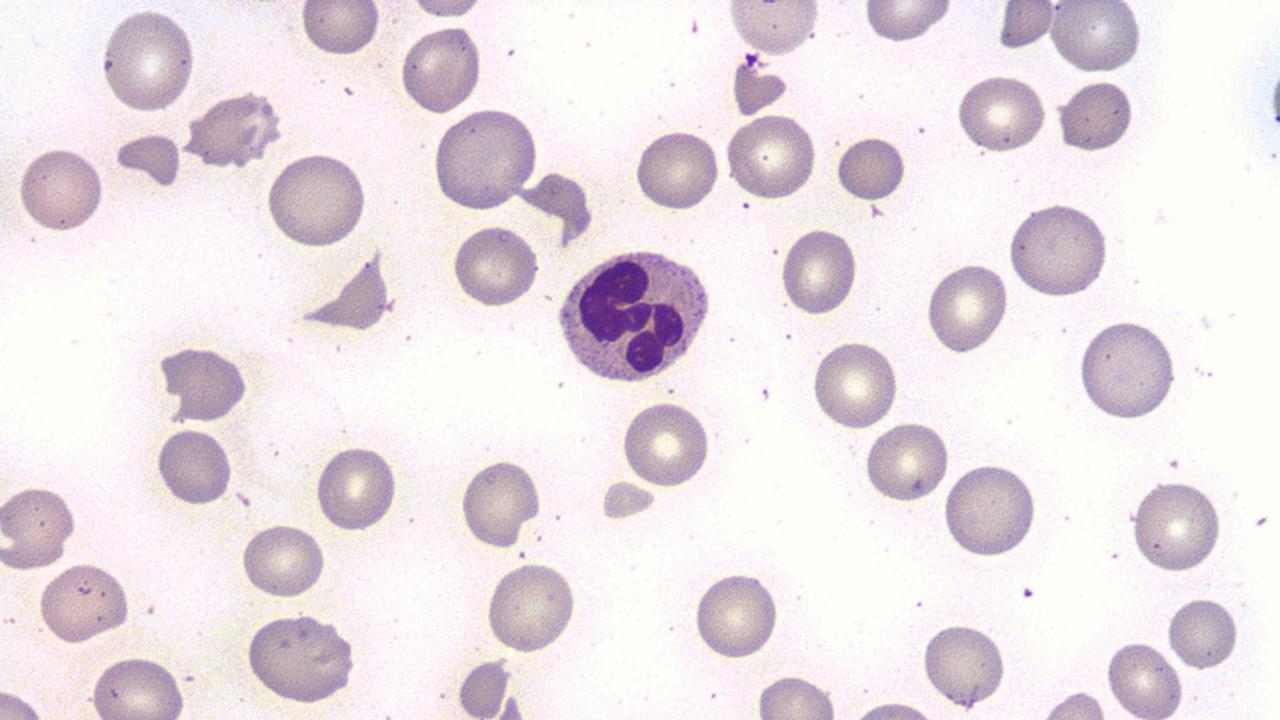Platelets: (1264, 30, 1280, 185), (739, 51, 757, 67)
RBC: (0, 0, 361, 307), (430, 104, 540, 214), (242, 610, 359, 706), (98, 5, 197, 117), (1075, 317, 1179, 423), (1006, 199, 1112, 300), (264, 151, 369, 252), (941, 460, 1038, 560), (482, 557, 578, 655), (1129, 477, 1225, 574), (691, 566, 784, 664), (722, 110, 818, 204), (294, 247, 394, 336), (810, 335, 900, 432), (918, 618, 1010, 712), (15, 142, 107, 236), (34, 560, 132, 648), (620, 398, 713, 490), (925, 258, 1010, 358), (456, 456, 542, 552), (313, 441, 399, 536), (631, 126, 722, 215), (448, 222, 540, 310), (954, 71, 1050, 155), (862, 417, 952, 506), (400, 23, 483, 118), (153, 344, 252, 422), (778, 224, 860, 318), (239, 519, 328, 602), (0, 482, 80, 574), (1046, 0, 1144, 74), (85, 653, 190, 718), (155, 424, 235, 509), (1104, 638, 1184, 718), (1166, 591, 1242, 674), (1056, 76, 1134, 156), (725, 1, 821, 57), (834, 133, 906, 204), (298, 0, 382, 60), (112, 130, 183, 190), (752, 674, 842, 718), (862, 1, 954, 43), (996, 1, 1056, 50), (1038, 686, 1112, 720), (406, 0, 484, 20)
WBC: (0, 0, 425, 307), (550, 242, 718, 392), (241, 609, 360, 707), (155, 341, 252, 426), (183, 90, 284, 169), (1247, 2, 1280, 214)
